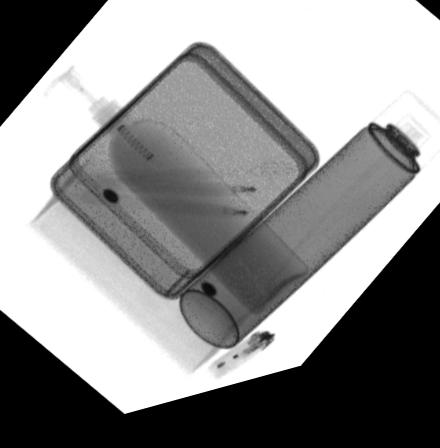Lighter: (207, 335, 278, 394)
Sprayer: (178, 112, 440, 361)
